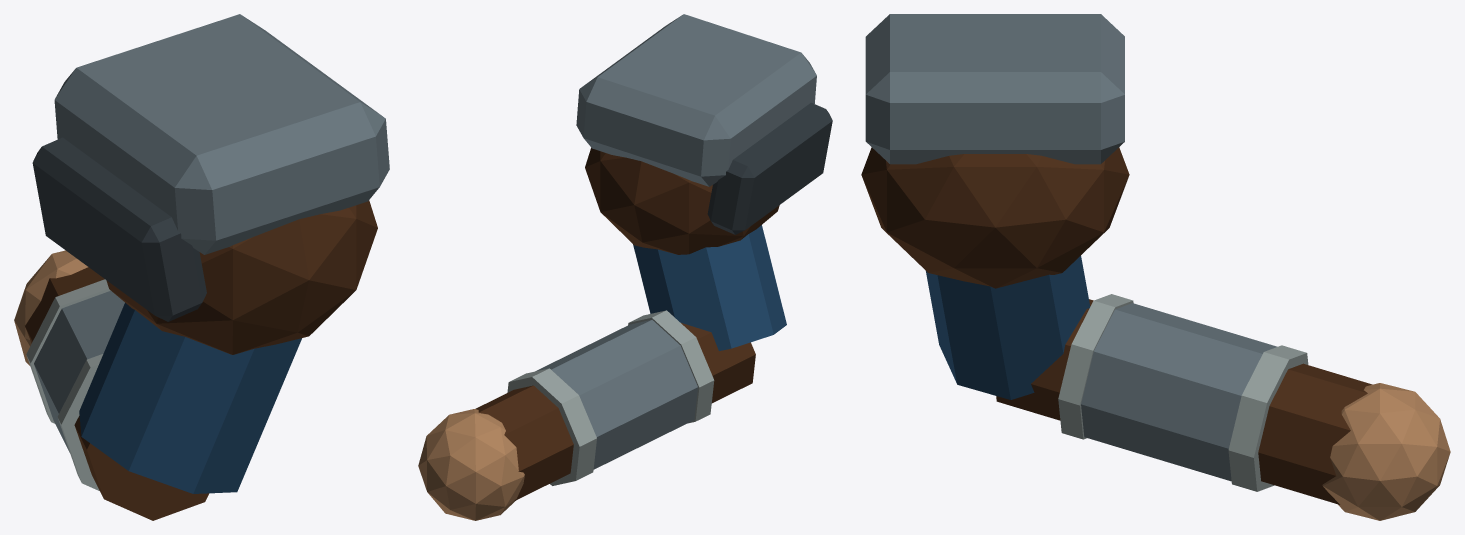
The model's file is ArmLeft.glb.
The picture shows the model from 3 angles, left to right: view 1: azimuth 30°, elevation 25°; view 2: azimuth 150°, elevation 25°; view 3: azimuth 270°, elevation 25°; orthographic projection. The views are drawn at different scales.
Visible parts, largest first — view 1: Sculpture; view 2: Sculpture; view 3: Sculpture.
Boxes of the visible parts, x1,y1,x2,y2 form: Sculpture: (14, 14, 389, 520); Sculpture: (418, 14, 832, 520); Sculpture: (861, 14, 1450, 520).
Bounding box in the file's own units: 0.332 × 0.5403 × 0.659.
